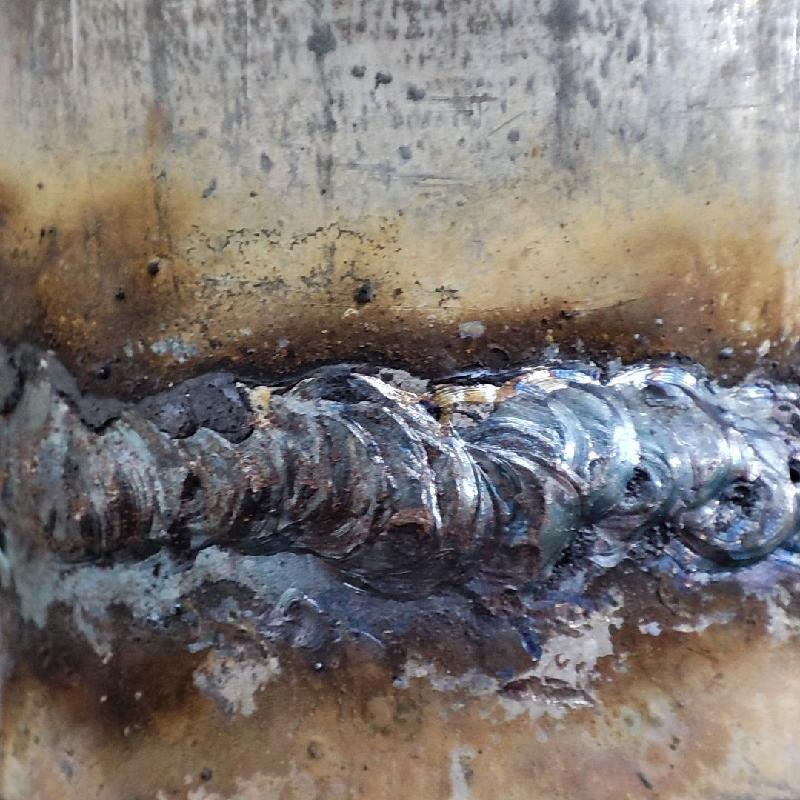Surface_pores: (172, 464, 220, 522), (722, 473, 764, 514)
good: (2, 336, 799, 587)
